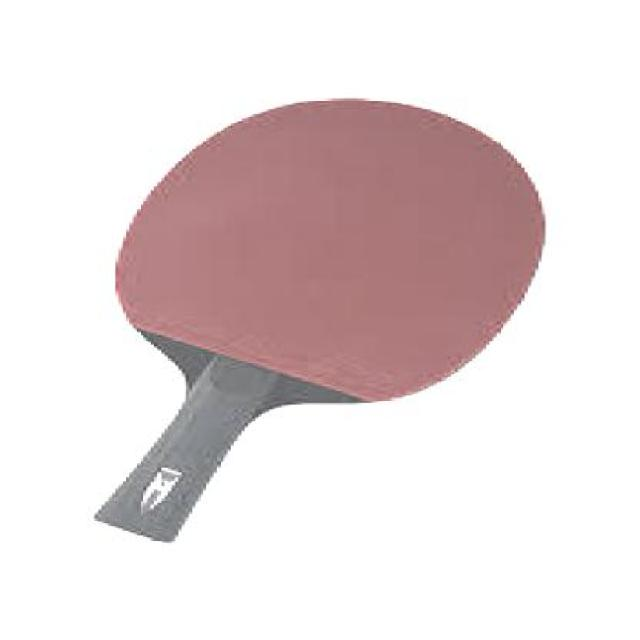table_tennis_racket: (109, 94, 556, 420)
